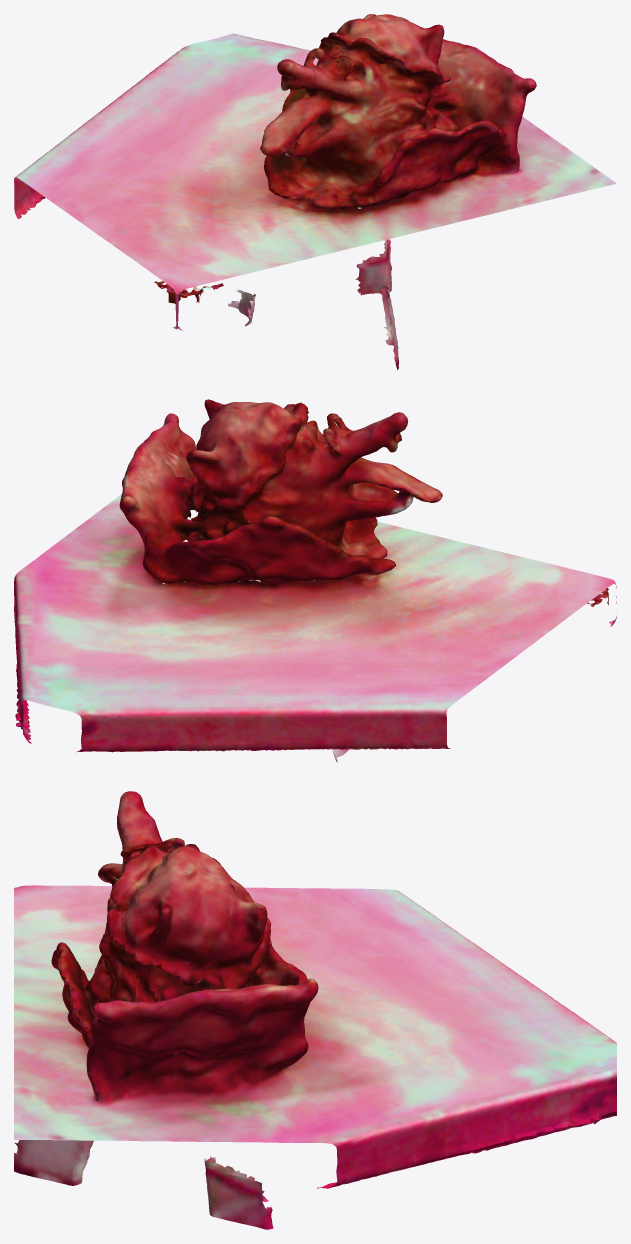
File: loup_virage.glb
3 views of the same model, one above another, from view 1: azimuth 30°, elevation 25°; view 2: azimuth 150°, elevation 25°; view 3: azimuth 270°, elevation 25° (orthographic). The views are drawn at different scales.
Parts seen in each view (by area): view 1: Model; view 2: Model; view 3: Model.
Part boxes in pixels (box(x1,y1,x2,y2)): Model: box(14, 14, 616, 370); Model: box(14, 399, 616, 762); Model: box(14, 791, 616, 1229).
Bounding box in the file's own units: 0.489 × 0.3081 × 0.489.
Materials: 1 (1 with a texture image).
